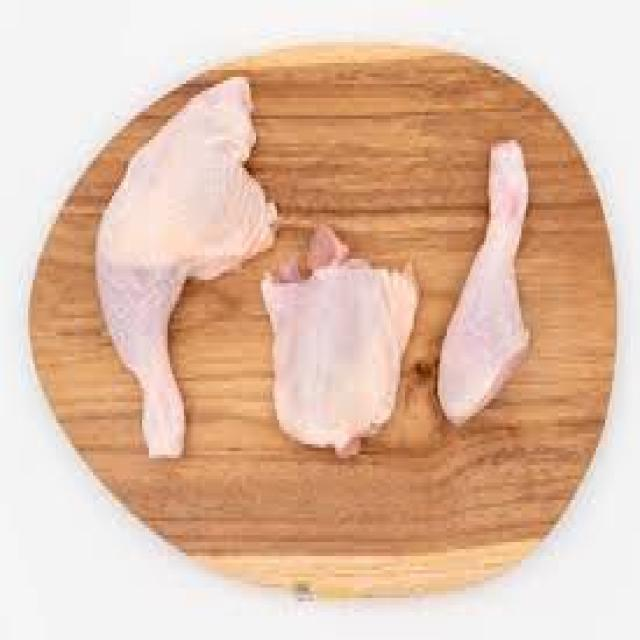chicken: (89, 74, 279, 465), (264, 226, 421, 473), (432, 139, 537, 433)
